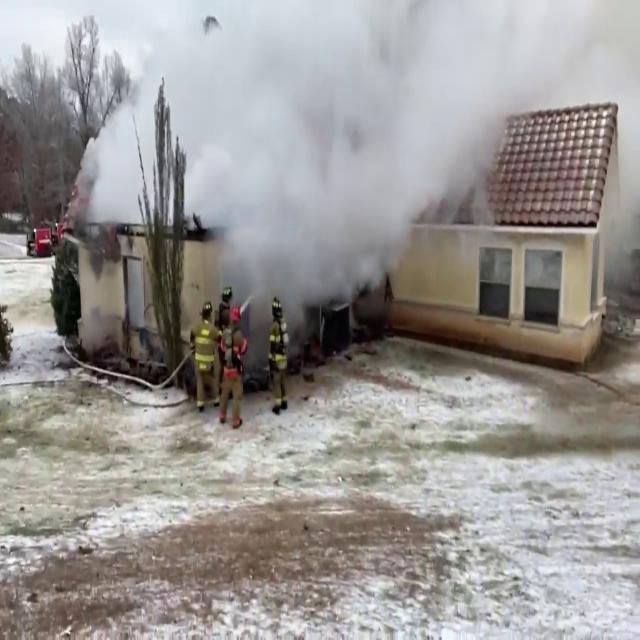Smoke: (209, 0, 640, 299), (80, 32, 212, 228)
